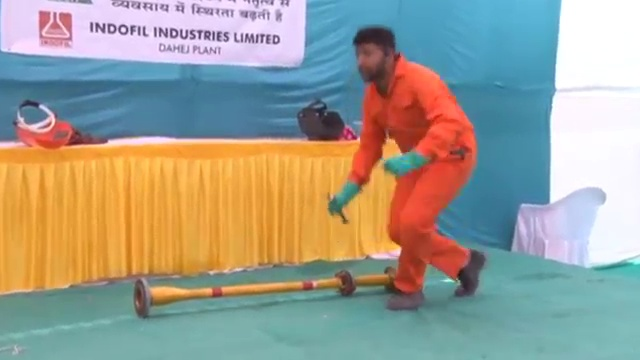helmet_off: (351, 26, 399, 86)
person: (333, 24, 490, 309)
